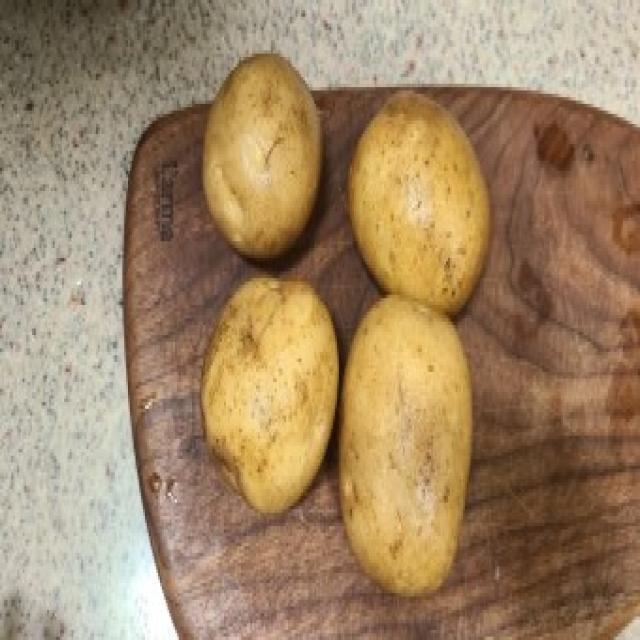potato: (338, 288, 476, 598), (198, 269, 340, 517), (345, 84, 493, 318), (202, 51, 324, 264)
